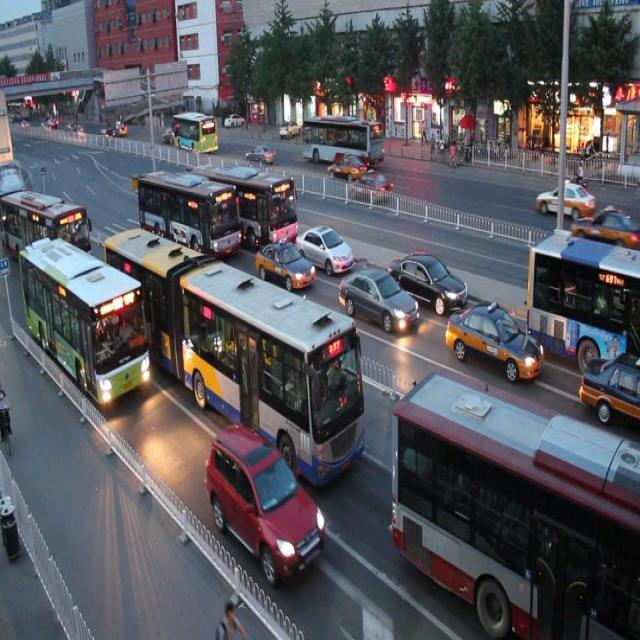car: (205, 421, 322, 584), (446, 294, 544, 382), (337, 258, 416, 331), (390, 243, 468, 309), (578, 347, 640, 421), (253, 230, 314, 289), (294, 214, 352, 273), (67, 255, 114, 308), (262, 177, 295, 212)
van: (102, 218, 366, 482), (391, 371, 640, 640), (19, 239, 150, 406), (524, 231, 640, 371), (136, 160, 240, 262), (191, 153, 298, 248), (1, 182, 90, 272)
